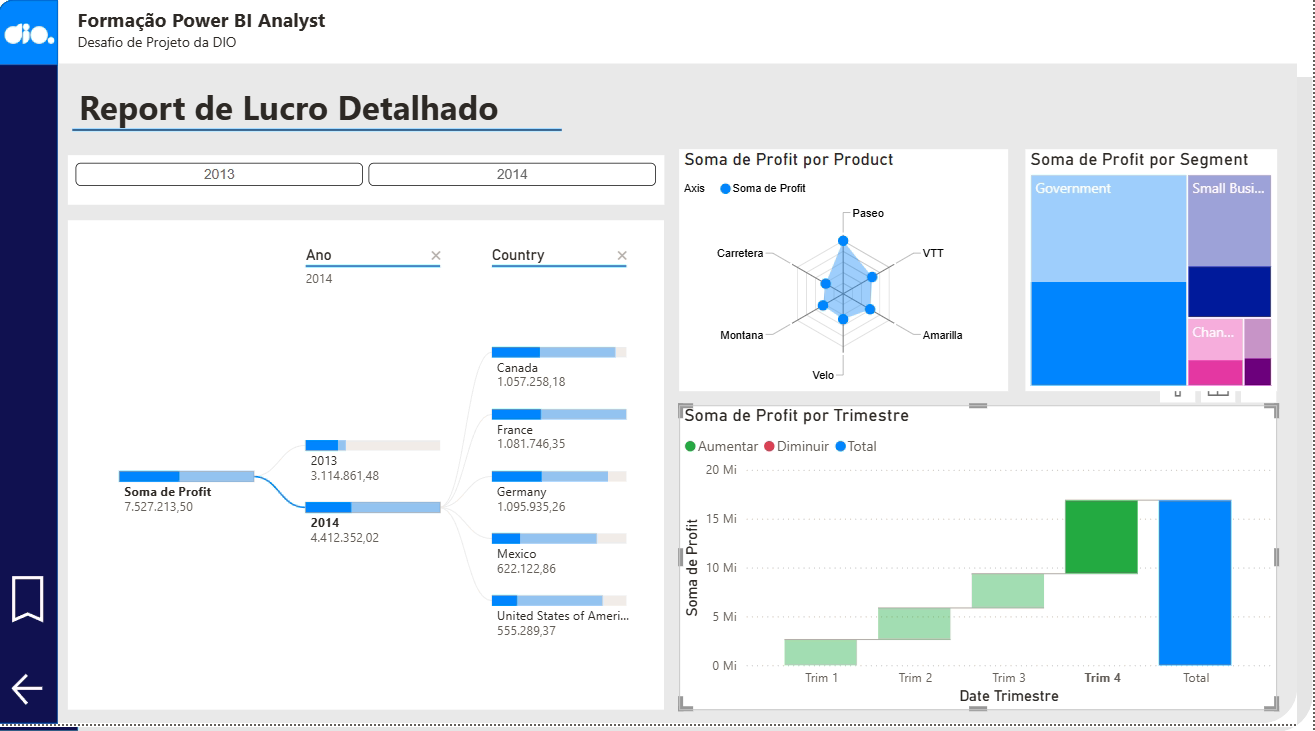

This screenshot's page, from the dashboard's own definition file:
{"tool":"powerbi","page":{"name":"Página 2","canvas":[1280,720],"ordinal":1},"visuals":[{"type":"shape","box":[42.6,20.7,1225.3,699.3],"z":0},{"type":"shape","box":[83.9,127.8,473,37.1],"z":0,"group":"g1"},{"type":"textbox","box":[85.3,97.6,470.2,52.2],"z":1000,"group":"g1"},{"type":"shape","box":[12.4,20.2,57.7,699.8],"z":1000},{"type":"shape","box":[12.4,20.6,57.7,63.2],"z":2000},{"type":"image","box":[13.7,33,57.7,39.9],"z":3000},{"type":"shape","title":"Fundo do Título","box":[71.5,20.6,1198.9,61.9],"z":4000},{"type":"textbox","title":"Título do report","box":[83.9,22,378.1,63.2],"z":5000},{"type":"shape","box":[79.7,233.7,576.1,473],"z":6000},{"type":"decompositionTreeVisual","fields":{"Analyze":["Sum(financials.Profit)"],"ExplainBy":["financials.Date.Variation.Hierarquia de datas.Ano","financials.Country"]},"box":[99.8,242.2,536.3,456.5],"z":7000},{"type":"waterfallChart","fields":{"Category":["financials.Date.Variation.Hierarquia de datas.Trimestre"],"Y":["Sum(financials.Profit)"]},"box":[670.9,412.5,577.4,294.2],"z":8000},{"type":"ChicletSlicer1448559807354","fields":{"Category":["financials.Date.Variation.Hierarquia de datas.Ano"]},"box":[79.7,170.5,576.1,48.1],"z":9000},{"type":"RadarChart1446119667547","fields":{"Category":["financials.Product"],"Y":["Sum(financials.Profit)"]},"box":[670.9,165,317.6,233.7],"z":10000},{"type":"treemap","fields":{"Values":["Sum(financials.Profit)"],"Group":["financials.Segment"]},"box":[1005,165,243.4,233.7],"z":11000},{"type":"actionButton","box":[22,666.8,48.1,39.9],"z":12000},{"type":"group","id":"g1","title":"Sales report","box":[83.9,97.6,473,67.4],"z":13000},{"type":"actionButton","box":[12.8,545.8,57,105.5],"z":14000}]}

Visuals, with their boxes on the page's 1280x720 design canvas (x1, y1, x2, y2). These are canvas units, not pixel positions in the 1315x731 screenshot, which may show the page scaled, cropped or inside an application window:
shape: crop(43, 21, 1268, 720)
shape: crop(84, 128, 557, 165)
textbox: crop(85, 98, 556, 150)
shape: crop(12, 20, 70, 720)
shape: crop(12, 21, 70, 84)
image: crop(14, 33, 71, 73)
"Fundo do Título" shape: crop(72, 21, 1270, 82)
"Título do report" textbox: crop(84, 22, 462, 85)
shape: crop(80, 234, 656, 707)
decompositionTreeVisual - Sum(financials.Profit) x financials.Date.Variation.Hierarquia de datas.Ano: crop(100, 242, 636, 699)
waterfallChart - financials.Date.Variation.Hierarquia de datas.Trimestre x Sum(financials.Profit): crop(671, 412, 1248, 707)
ChicletSlicer1448559807354 - financials.Date.Variation.Hierarquia de datas.Ano: crop(80, 170, 656, 219)
RadarChart1446119667547 - financials.Product x Sum(financials.Profit): crop(671, 165, 988, 399)
treemap - Sum(financials.Profit) x financials.Segment: crop(1005, 165, 1248, 399)
actionButton: crop(22, 667, 70, 707)
"Sales report" group: crop(84, 98, 557, 165)
actionButton: crop(13, 546, 70, 651)
